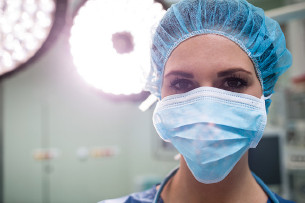face_mask: (152, 38, 267, 181)
